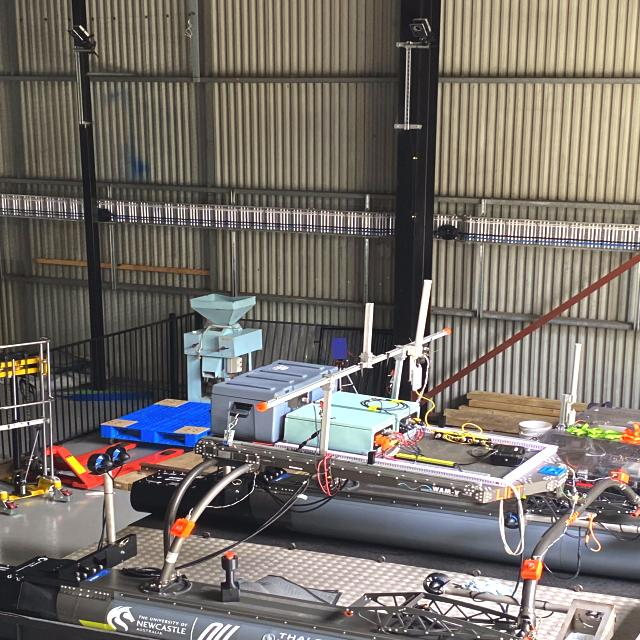matrix: (328, 335, 350, 361)
